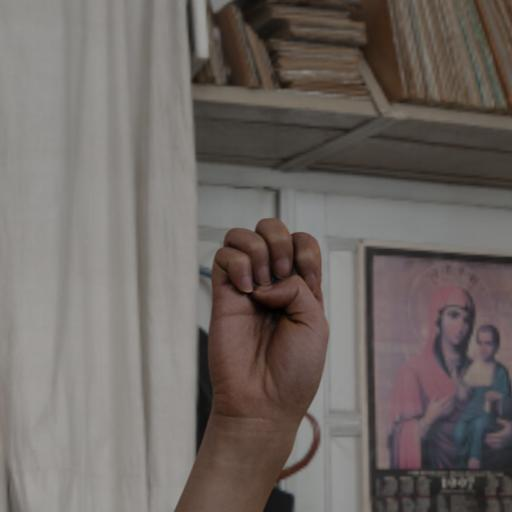E: (191, 210, 344, 428)
